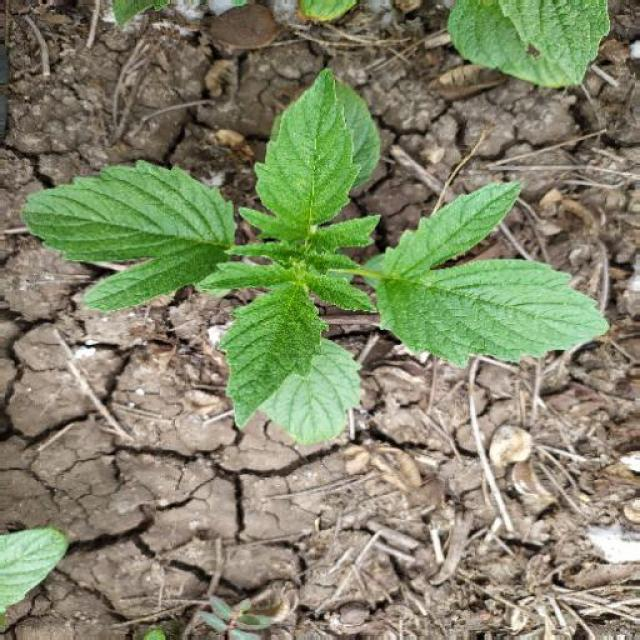crop: (28, 76, 610, 442)
